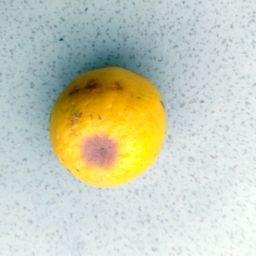Unripe: (49, 69, 166, 187)
